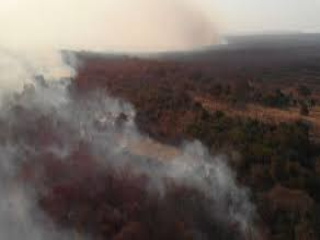smoke: (67, 94, 265, 229)
